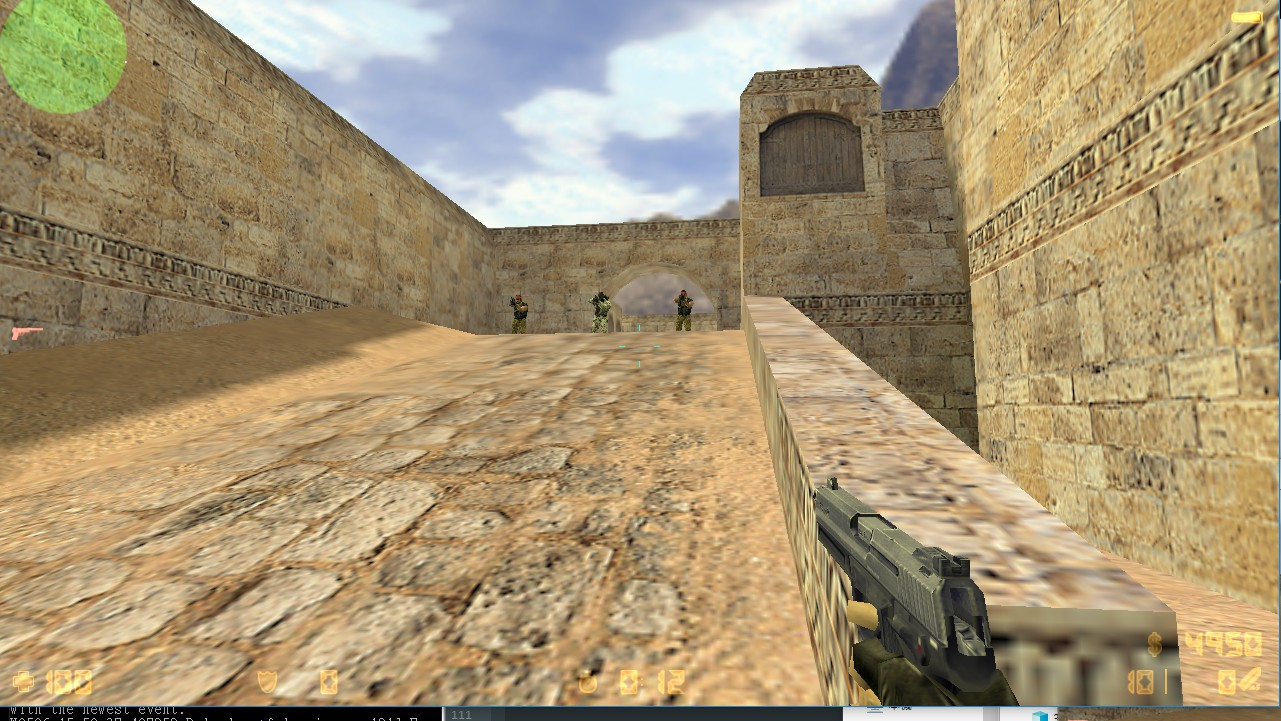person: (670, 286, 696, 331), (587, 290, 611, 333), (509, 292, 530, 334)
